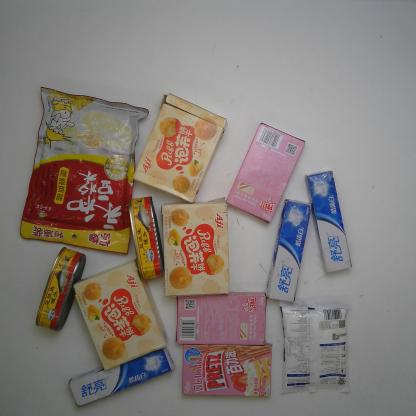Canned Food: (35, 246, 87, 332), (128, 195, 165, 280)
Dessert: (132, 93, 228, 203), (73, 258, 167, 370), (226, 123, 306, 223), (160, 197, 230, 297), (175, 290, 266, 345), (182, 342, 273, 397)
Instant Drink: (20, 86, 150, 254)
Personal Hygiene: (69, 344, 176, 406), (306, 170, 352, 274), (266, 200, 311, 302)
Seasoner: (278, 300, 350, 394)
